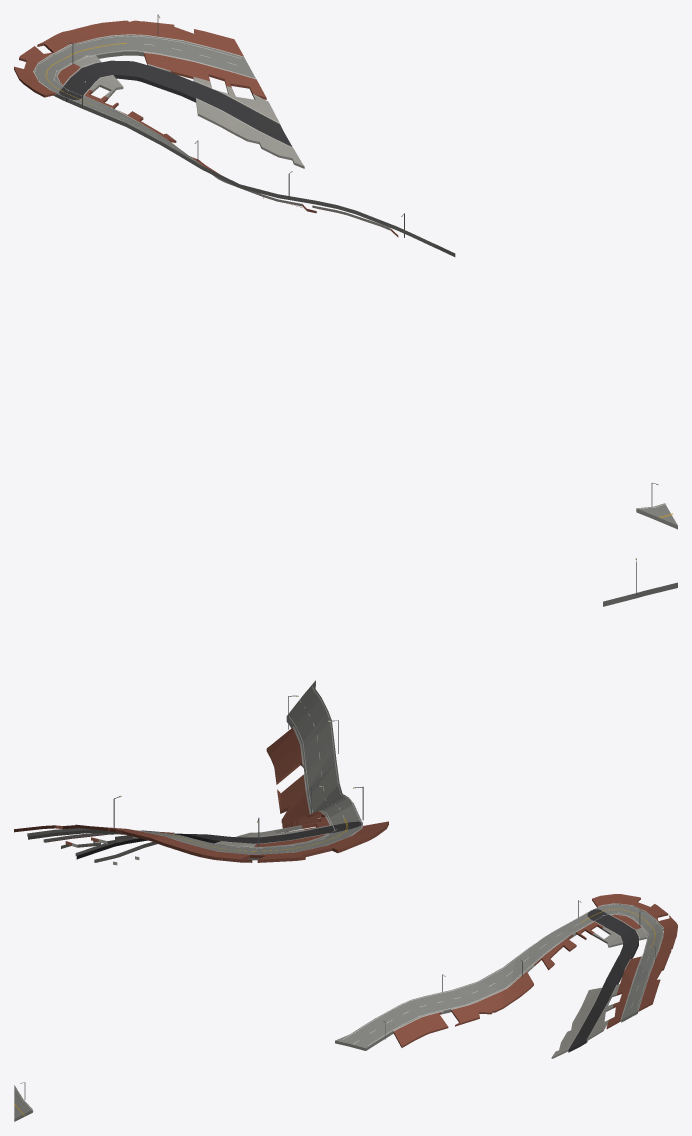
The picture shows the model from 3 angles, top to bottom: view 1: azimuth 30°, elevation 25°; view 2: azimuth 150°, elevation 25°; view 3: azimuth 270°, elevation 25°; orthographic projection. The views are drawn at different scales.
Bounding box in the file's own units: 77.47 × 64.3 × 257.
